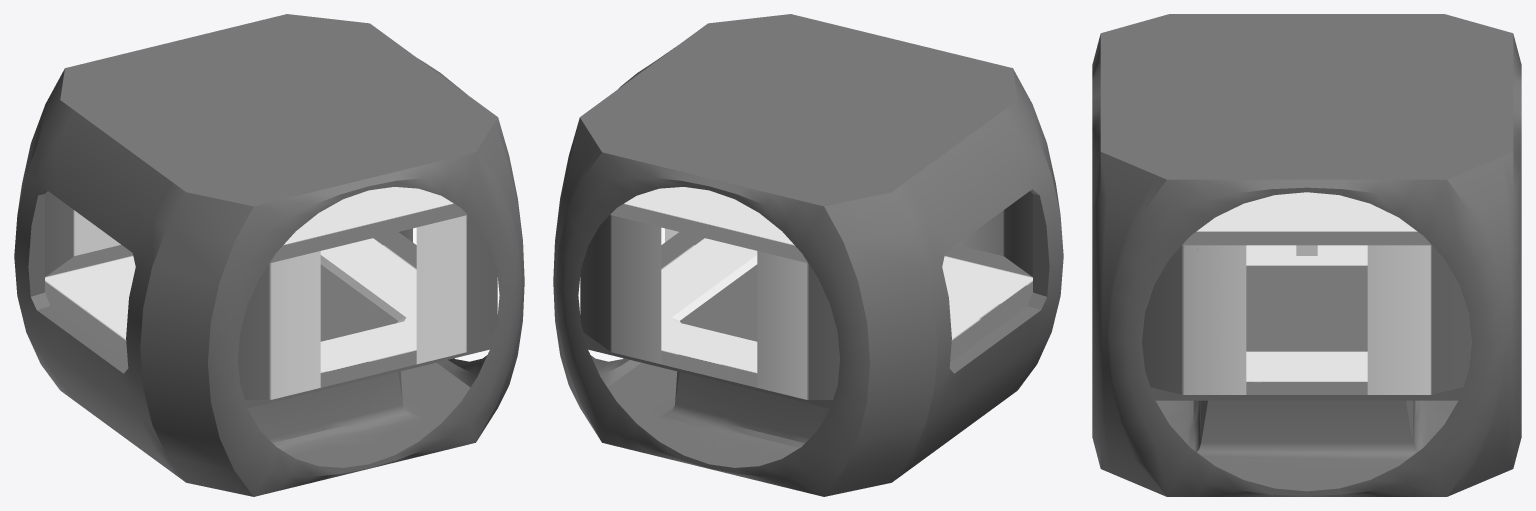
File: HabCompuerta.fbx
3 views of the same model, side by side, from view 1: azimuth 30°, elevation 25°; view 2: azimuth 150°, elevation 25°; view 3: azimuth 270°, elevation 25° (orthographic). The views are drawn at different scales.
Parts seen in each view (by area): view 1: HabCompuerta, CompHembra; view 2: HabCompuerta, CompHembra; view 3: HabCompuerta, CompMacho, CompHembra.
Part boxes in pixels (box(x1,y1,x2,y2)): HabCompuerta: box(14, 14, 524, 496); CompHembra: box(320, 264, 397, 341); HabCompuerta: box(553, 14, 1063, 496); CompHembra: box(680, 264, 757, 341); HabCompuerta: box(1092, 14, 1521, 496); CompMacho: box(1246, 265, 1367, 316); CompHembra: box(1246, 305, 1367, 351).
Size of the model in its own units: 2777 by 2121 by 2600.
Materials: 3 (3 with a texture image).
